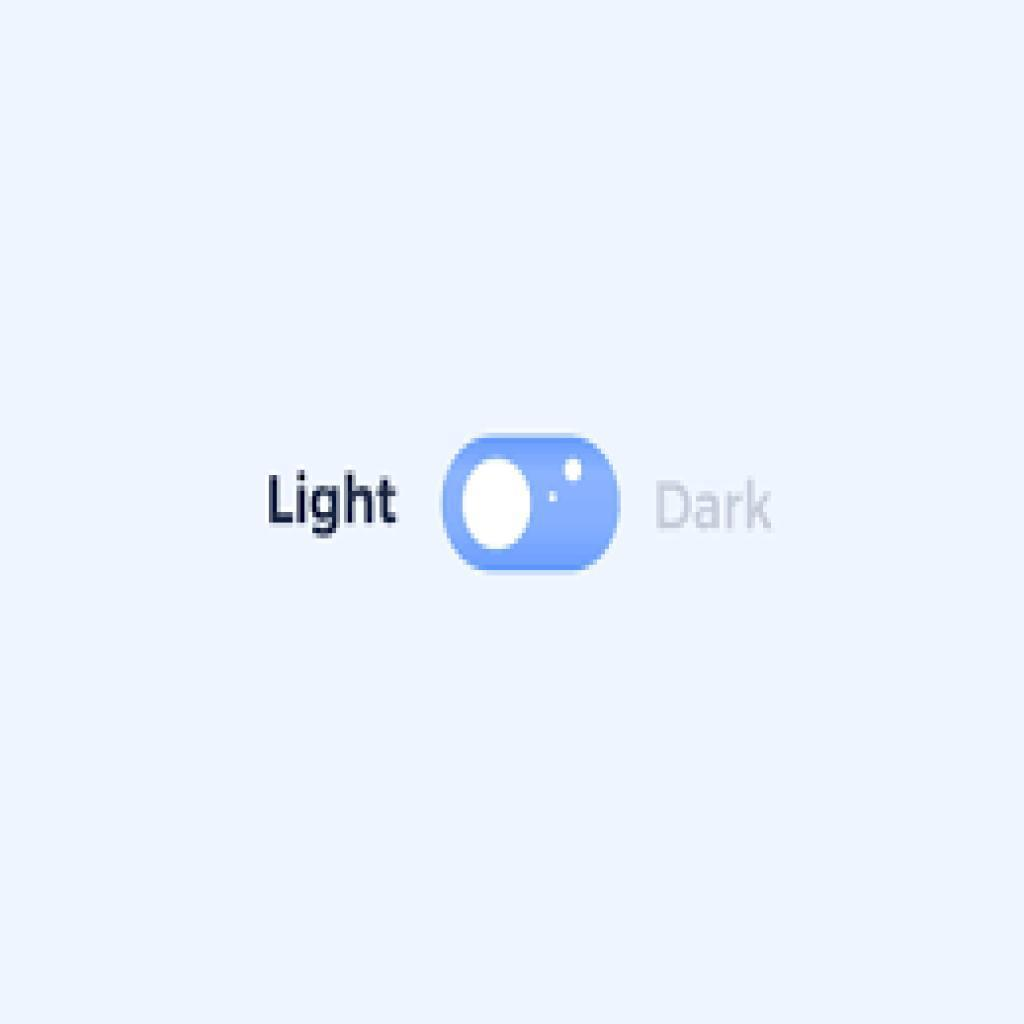switch: (435, 432, 622, 577)
